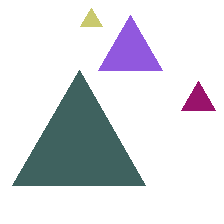triangle: (12, 70, 145, 185), (98, 15, 162, 70), (181, 81, 215, 110), (80, 8, 102, 26)
